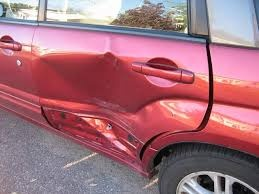Dent: (29, 44, 177, 166)
Scratch: (71, 100, 148, 139)
